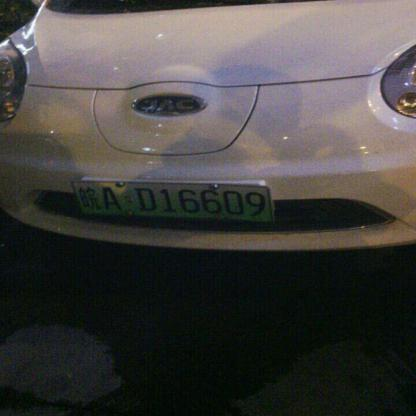lp: (74, 181, 272, 221)
